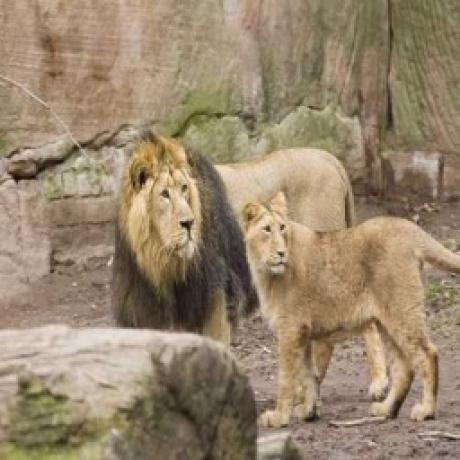Lion: (239, 188, 460, 428), (109, 128, 353, 336)
